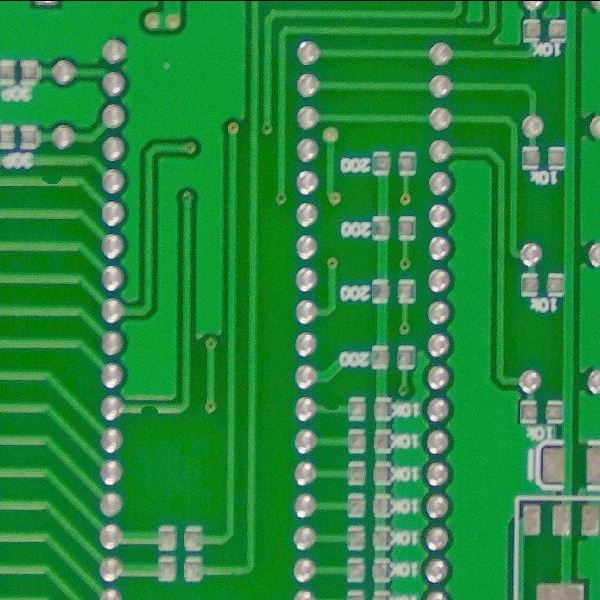mouse_bite: (33, 168, 66, 191), (132, 401, 162, 420), (318, 400, 340, 417)
